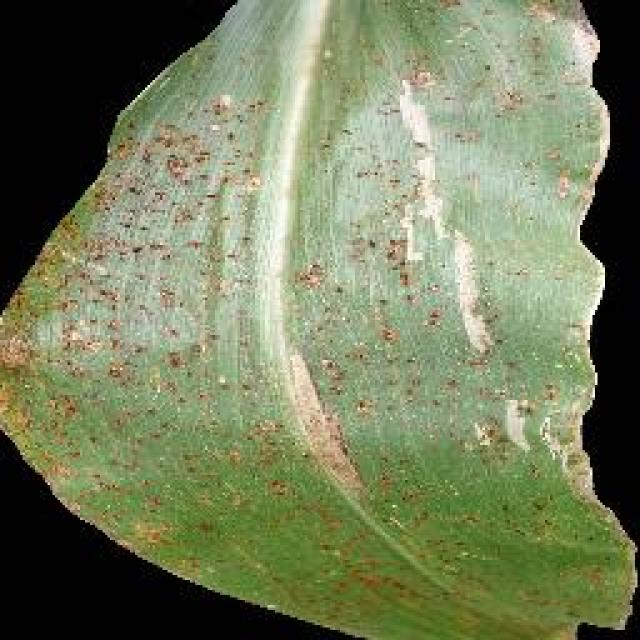Corn Common Rust: (113, 122, 600, 620)
